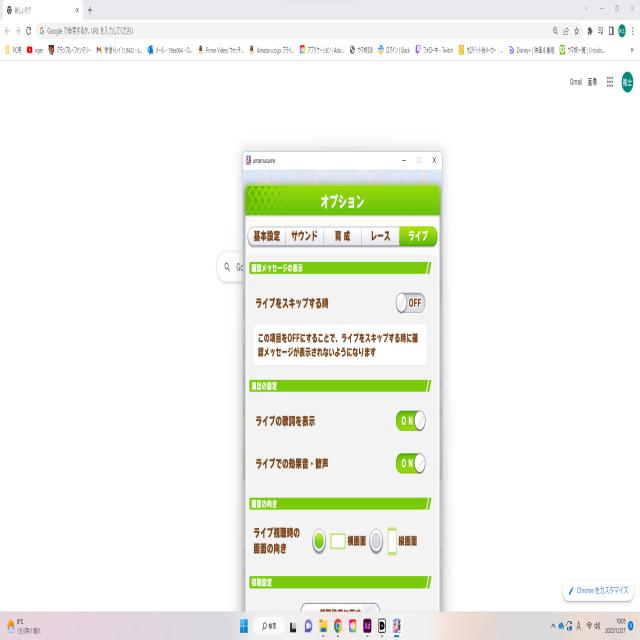radio: (311, 528, 327, 554), (368, 530, 384, 555)
toggle: (395, 408, 426, 431), (396, 292, 428, 314), (395, 452, 425, 473)
